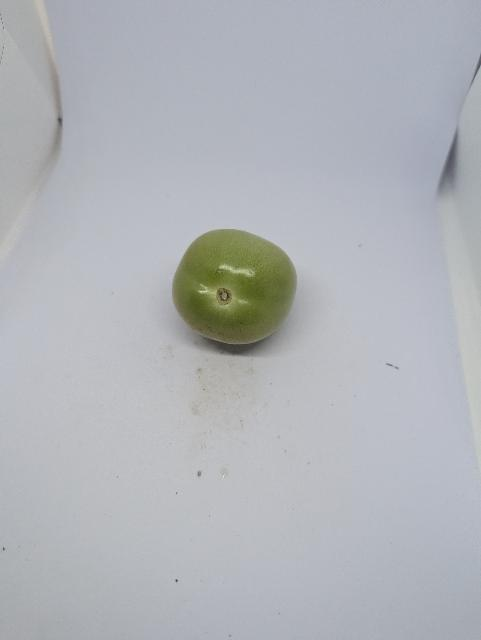green: (170, 226, 301, 349)
